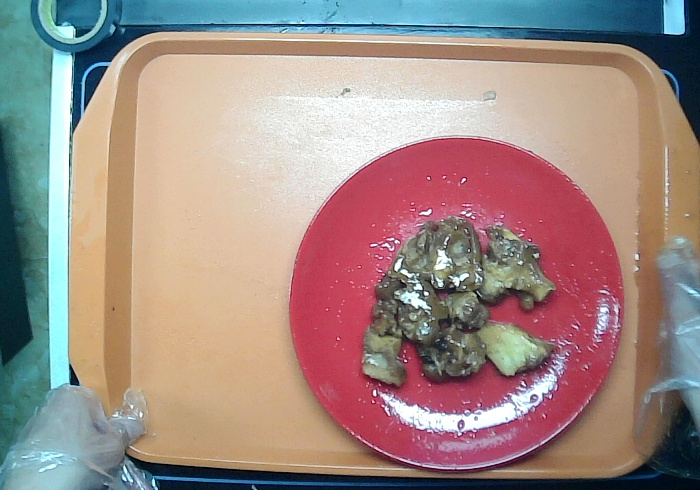HZYJPL-Hong_Se_Yuan_Pan: (287, 130, 628, 477)
